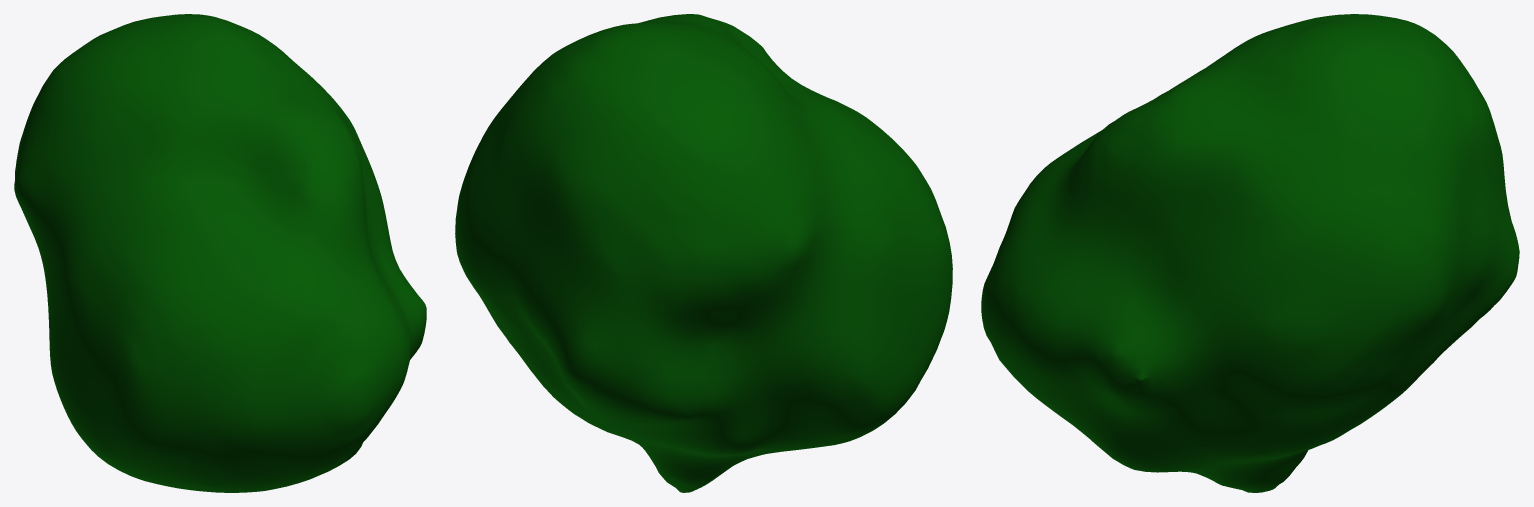
File: Lesion.obj
3 renders of one model, left to right at view 1: azimuth 30°, elevation 25°; view 2: azimuth 150°, elevation 25°; view 3: azimuth 270°, elevation 25°, orthographic. The views are drawn at different scales.
Visible parts, largest first — view 1: grp1; view 2: grp1; view 3: grp1.
Part boxes in pixels (box(x1,y1,x2,y2)): grp1: box(14, 14, 426, 492); grp1: box(455, 14, 952, 492); grp1: box(981, 14, 1519, 492).
Size of the model in its own units: 27.15 by 33.73 by 35.58.
